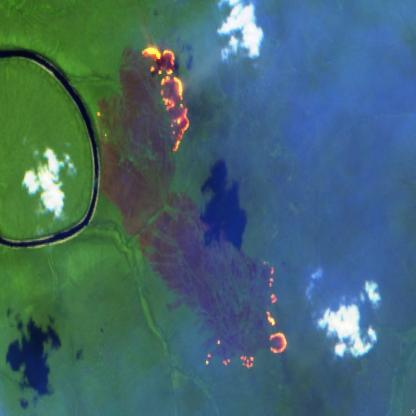fire: (94, 34, 196, 155), (202, 255, 290, 371)
